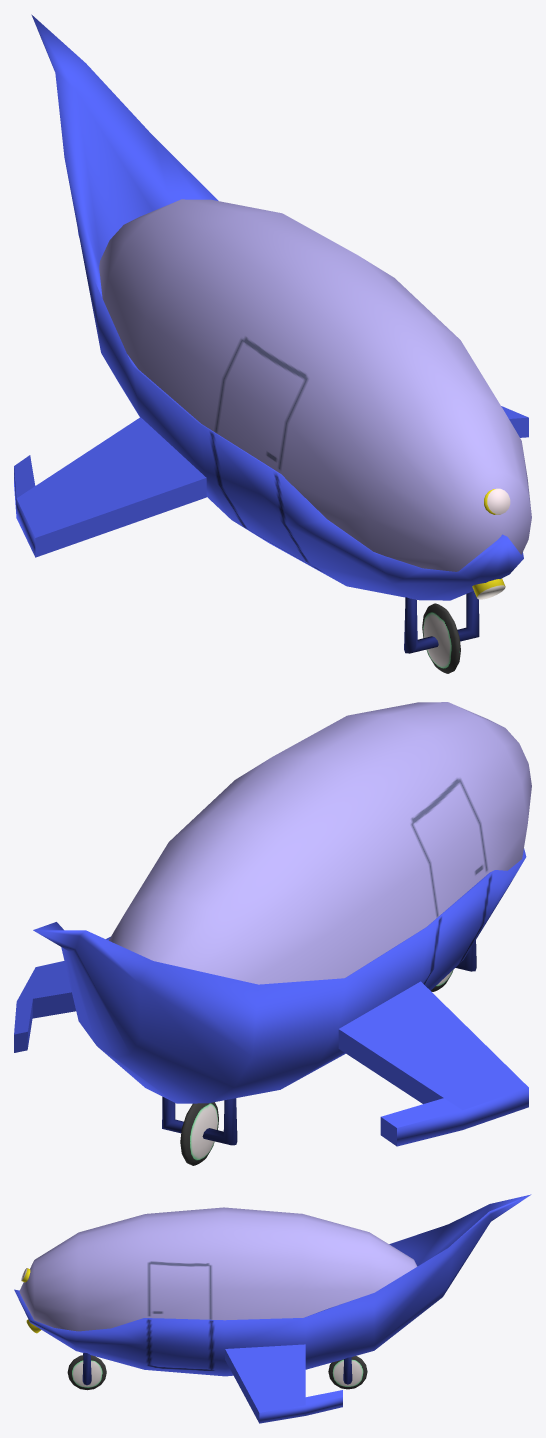
File: capsuleBus.gltf
3 views of the same model, one above another, from view 1: azimuth 30°, elevation 25°; view 2: azimuth 150°, elevation 25°; view 3: azimuth 270°, elevation 25° (orthographic). The views are drawn at different scales.
Parts seen in each view (by area): view 1: Sphere, Sphere.001, Sphere.002; view 2: Sphere, Sphere.001, Sphere.002; view 3: Sphere, Sphere.001, Sphere.002.
Boxes of the visible parts, x1,y1,x2,y2 form: Sphere: [99, 199, 531, 571]; Sphere.001: [14, 14, 528, 600]; Sphere.002: [404, 591, 479, 673]; Sphere: [109, 702, 531, 984]; Sphere.001: [14, 848, 528, 1146]; Sphere.002: [162, 940, 476, 1165]; Sphere: [19, 1207, 417, 1331]; Sphere.001: [14, 1194, 531, 1423]; Sphere.002: [67, 1352, 367, 1390].
Size of the model in its own units: 4.26 by 2.96 by 7.11.
5 materials, 5 textured.
